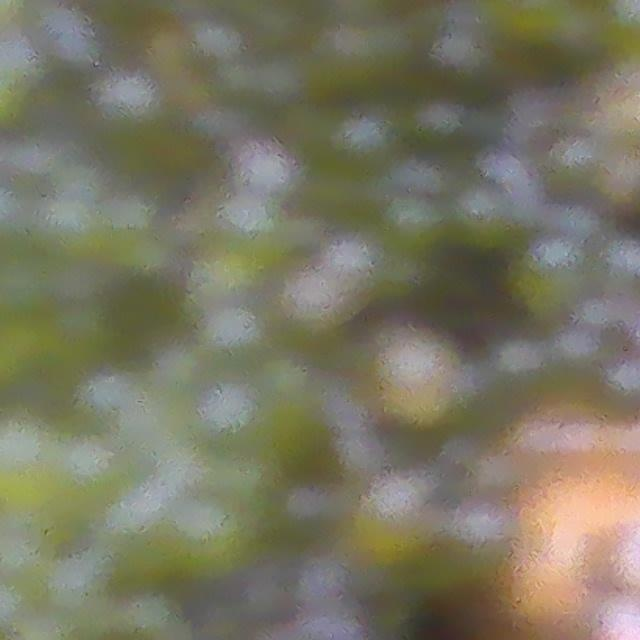SeaGrape: (206, 301, 267, 359)
